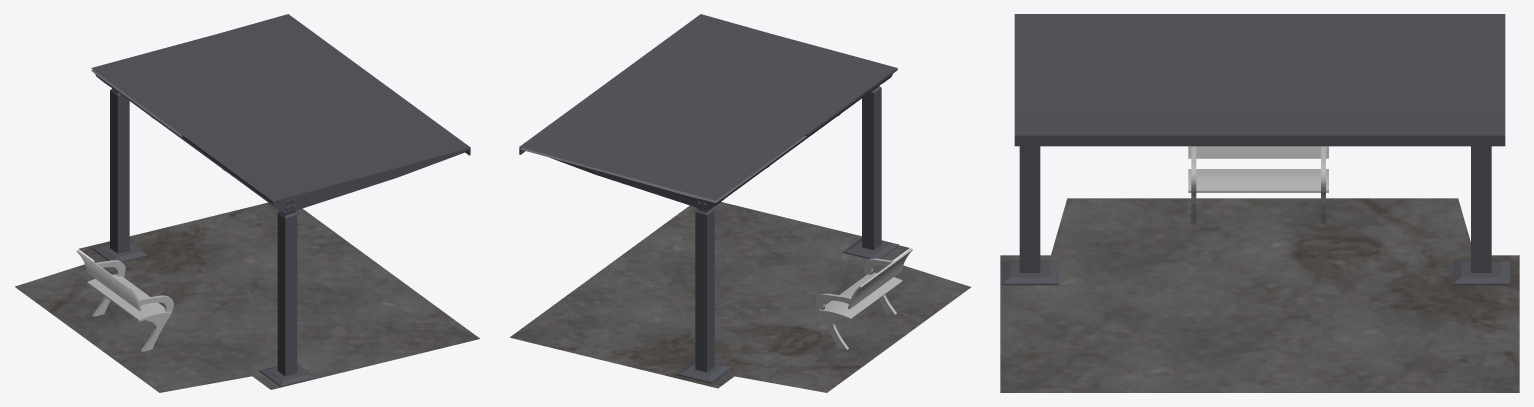
File: ShelterWalkWayWithBench.fbx
3 views of the same model, side by side, from view 1: azimuth 30°, elevation 25°; view 2: azimuth 150°, elevation 25°; view 3: azimuth 270°, elevation 25° (orthographic). The views are drawn at different scales.
Visible parts, largest first — view 1: Floor, Rooftop, Rooftop1, Pillar, Pillar2, benchSeat, benchback, benchleg_left, PillarEdge, benchleg_right; view 2: Floor, Rooftop1, Rooftop, Pillar2, Pillar, benchSeat, benchback, benchleg_right, PillarEdge, benchleg_left; view 3: Floor, Rooftop1, Rooftop, Pillar, Pillar2, benchSeat, PillarEndEdge1, PillarEndEdge, benchback, benchleg_left.
Boxes of the visible parts, x1=… form: Floor: x1=15, y1=202, x2=479, y2=392; Rooftop: x1=182, y1=81, x2=470, y2=203; Rooftop1: x1=91, y1=14, x2=379, y2=136; Pillar: x1=259, y1=151, x2=464, y2=386; Pillar2: x1=92, y1=79, x2=148, y2=262; benchSeat: x1=87, y1=274, x2=171, y2=321; benchback: x1=76, y1=250, x2=141, y2=311; benchleg_left: x1=138, y1=295, x2=173, y2=351; PillarEdge: x1=95, y1=74, x2=274, y2=206; benchleg_right: x1=92, y1=260, x2=125, y2=316; Floor: x1=510, y1=202, x2=971, y2=392; Rooftop1: x1=519, y1=80, x2=806, y2=202; Rooftop: x1=610, y1=14, x2=897, y2=136; Pillar2: x1=550, y1=157, x2=732, y2=383; Pillar: x1=843, y1=77, x2=899, y2=259; benchSeat: x1=818, y1=272, x2=902, y2=319; benchback: x1=848, y1=248, x2=912, y2=309; benchleg_right: x1=815, y1=293, x2=851, y2=349; PillarEdge: x1=714, y1=74, x2=892, y2=205; benchleg_left: x1=863, y1=258, x2=896, y2=314; Floor: x1=1000, y1=198, x2=1519, y2=392; Rooftop1: x1=1259, y1=14, x2=1505, y2=138; Rooftop: x1=1014, y1=14, x2=1258, y2=138; Pillar: x1=1001, y1=146, x2=1058, y2=285; Pillar2: x1=1452, y1=146, x2=1509, y2=285; benchSeat: x1=1188, y1=169, x2=1328, y2=192; PillarEndEdge1: x1=1259, y1=139, x2=1505, y2=146; PillarEndEdge: x1=1014, y1=139, x2=1258, y2=146; benchback: x1=1188, y1=146, x2=1328, y2=158; benchleg_left: x1=1191, y1=146, x2=1196, y2=223.
Bounding box in the file's own units: 447 × 272 × 503.
Materials: 1 (1 with a texture image).
